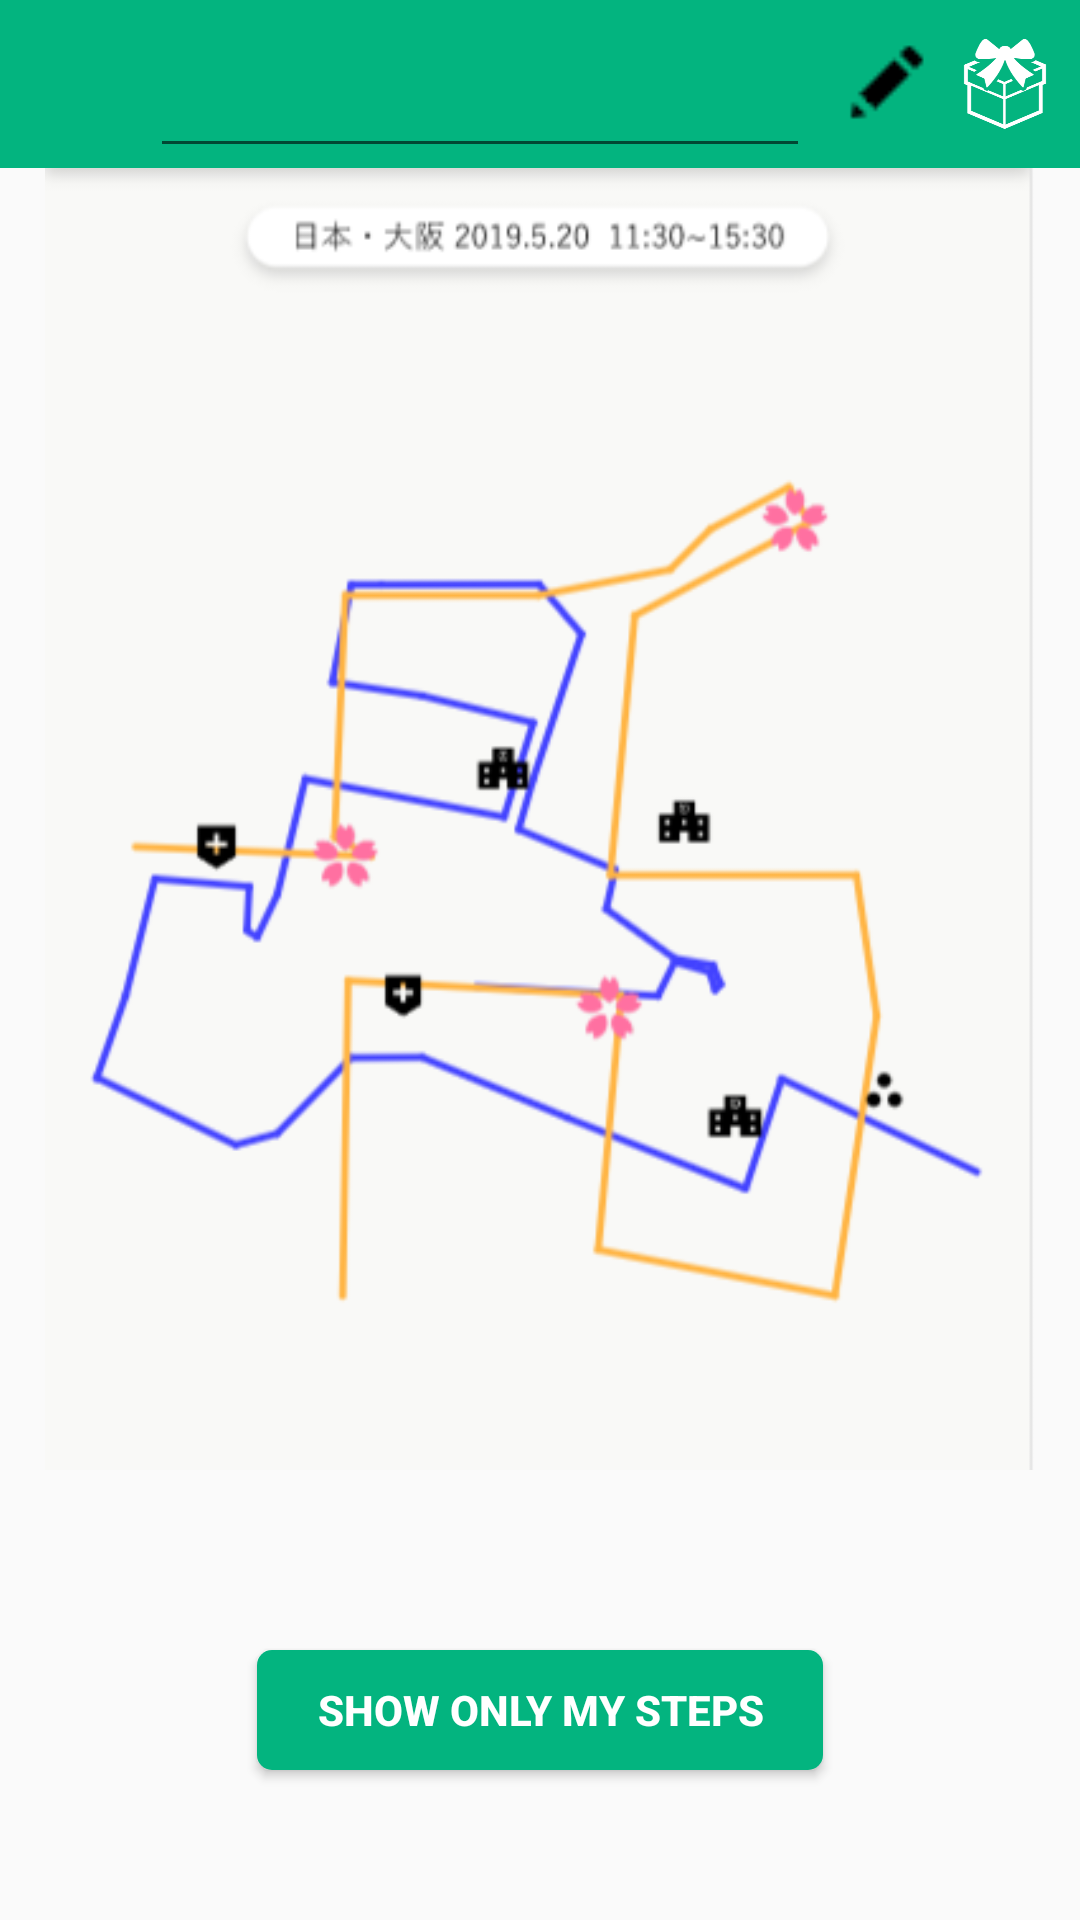

Locate icon controls on the screen. Image size 1080×1920, boxes as (x1, y1, x2, y2).
gift: (964, 39, 1046, 129)
pencil: (850, 45, 924, 119)
